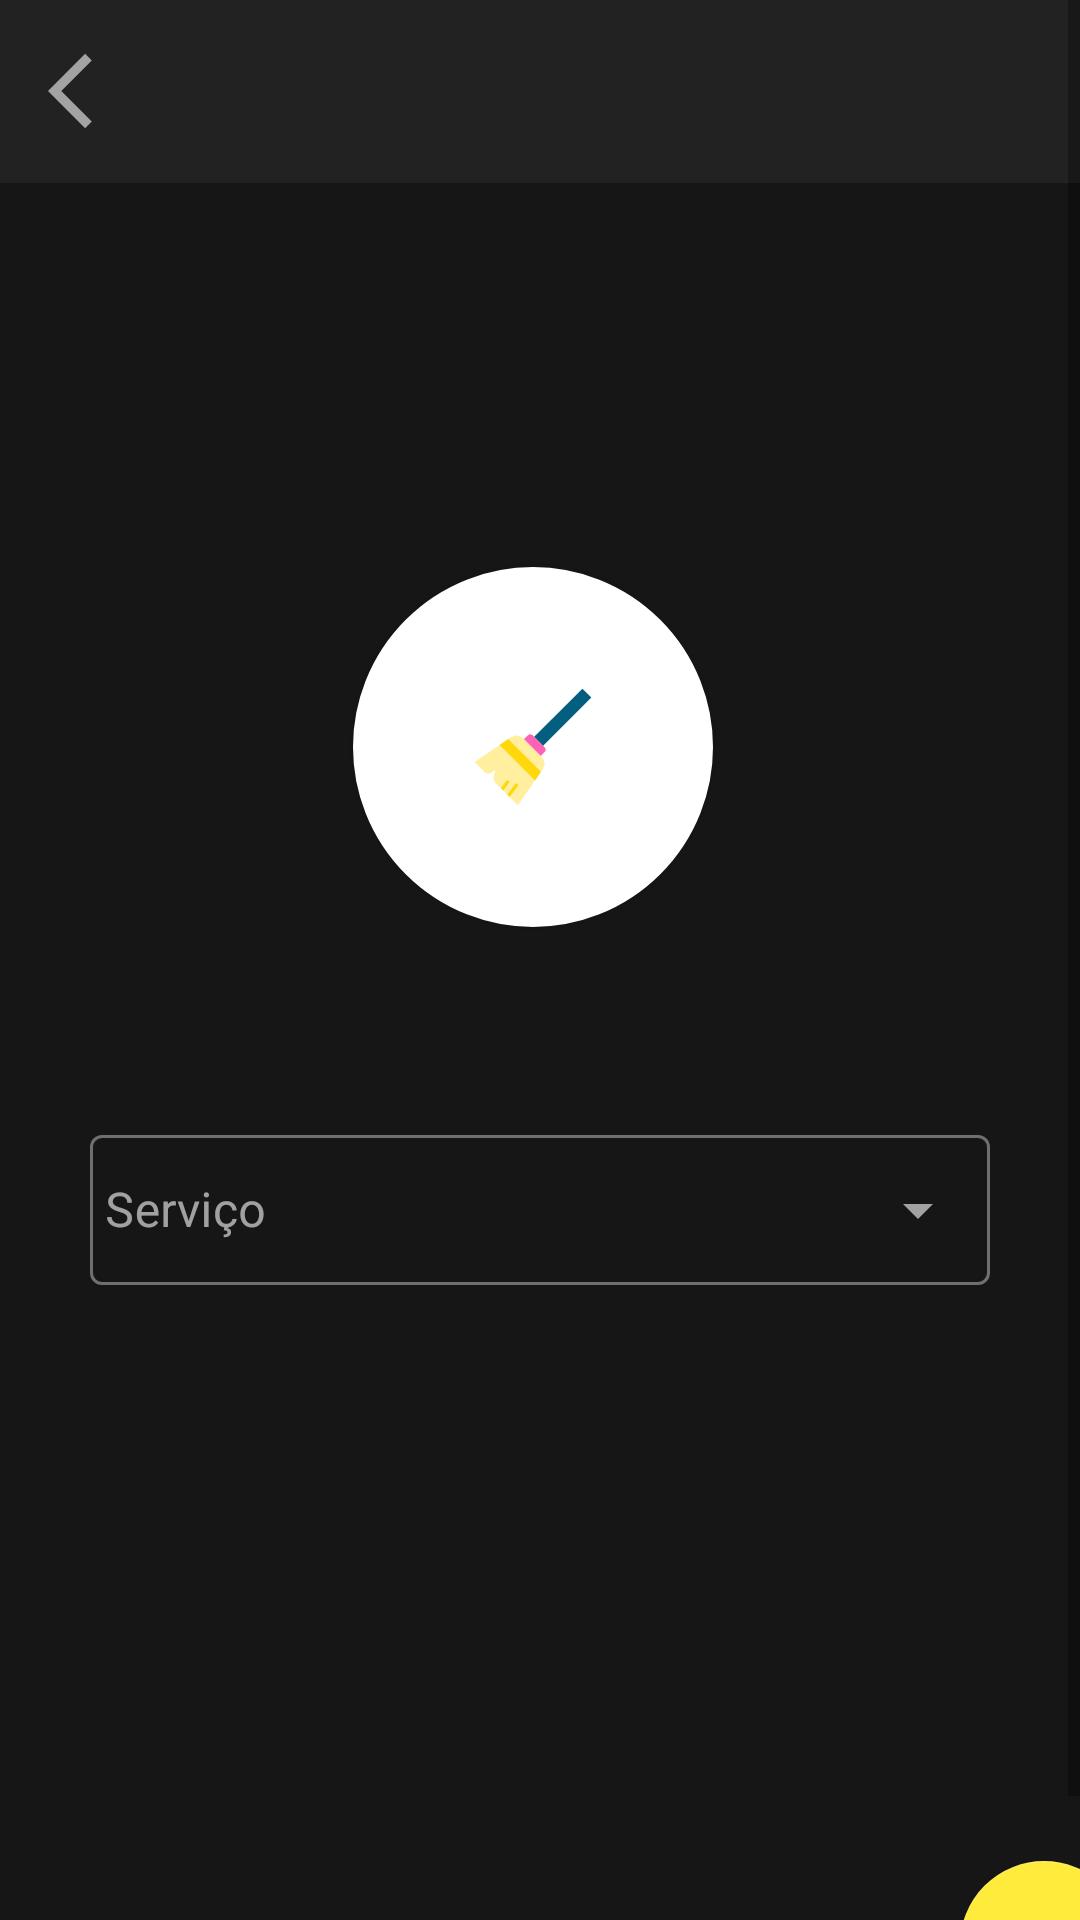

Where to tap for icons on this 1080px×1920px app screen, as [x,y]:
vassoura: [533,747]
voltar: [70,91]
